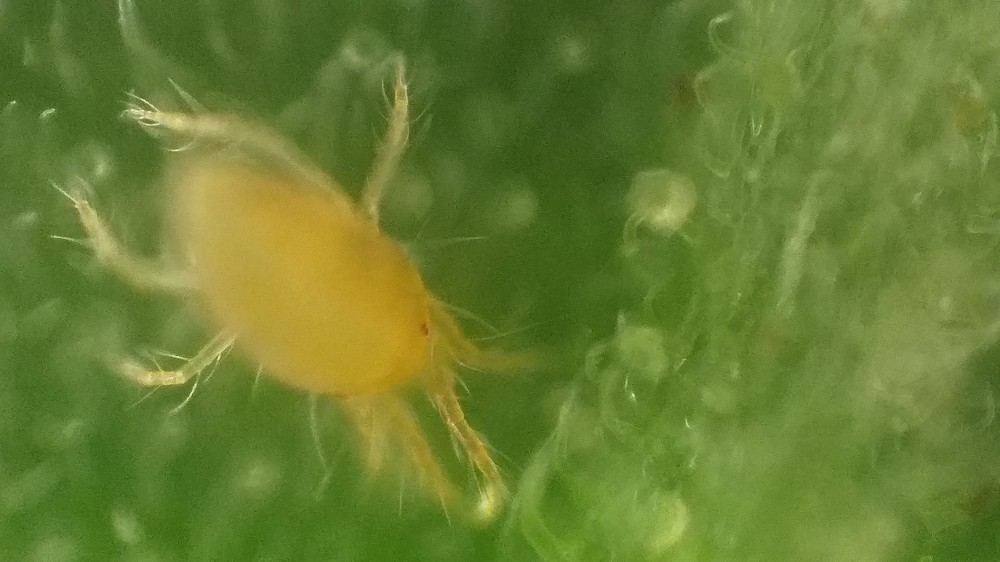Aracnido Rojo: (46, 55, 552, 517)
